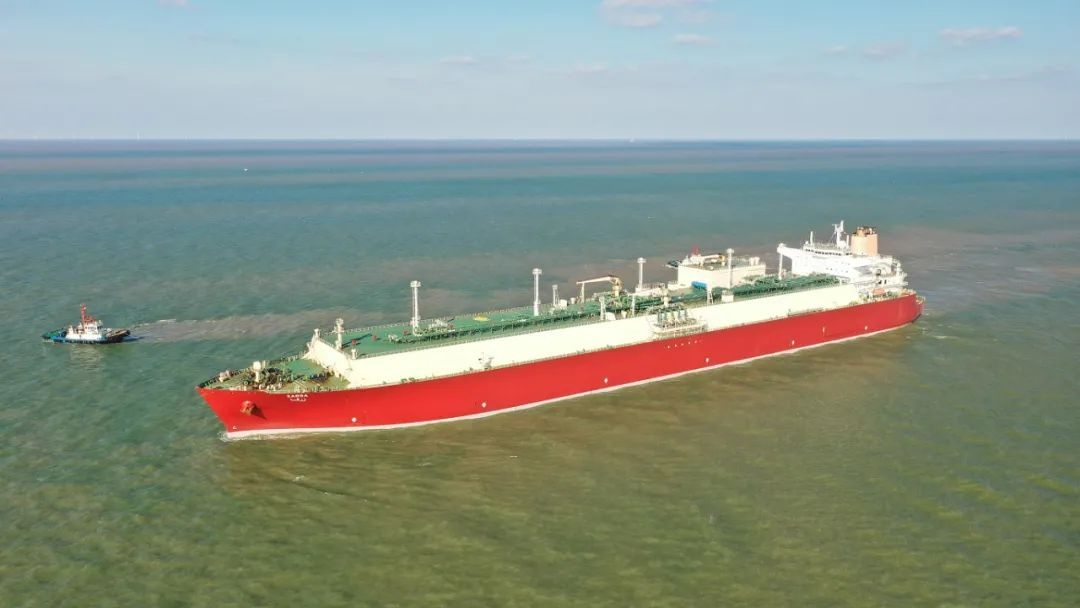Cargoship: (188, 213, 924, 449)
otherboat: (37, 304, 124, 353)
